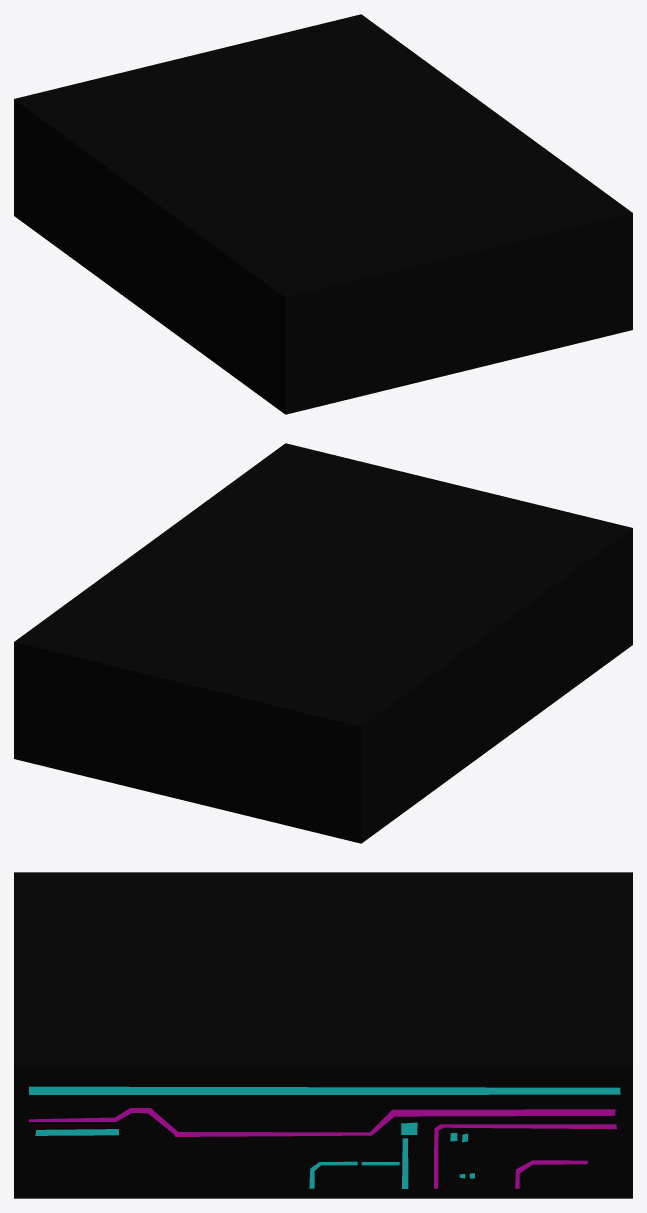
The model's file is tile9.fbx.
3 views of the same model, one above another, from view 1: azimuth 30°, elevation 25°; view 2: azimuth 150°, elevation 25°; view 3: azimuth 270°, elevation 25° (orthographic). The views are drawn at different scales.
Parts seen in each view (by area): view 1: Cube.121; view 2: Cube.121; view 3: Cube.121.
Boxes of the visible parts, x1,y1,x2,y2 form: Cube.121: (14, 14, 632, 414); Cube.121: (14, 443, 632, 843); Cube.121: (14, 872, 632, 1198).
Size of the model in its own units: 193 by 62.16 by 262.
